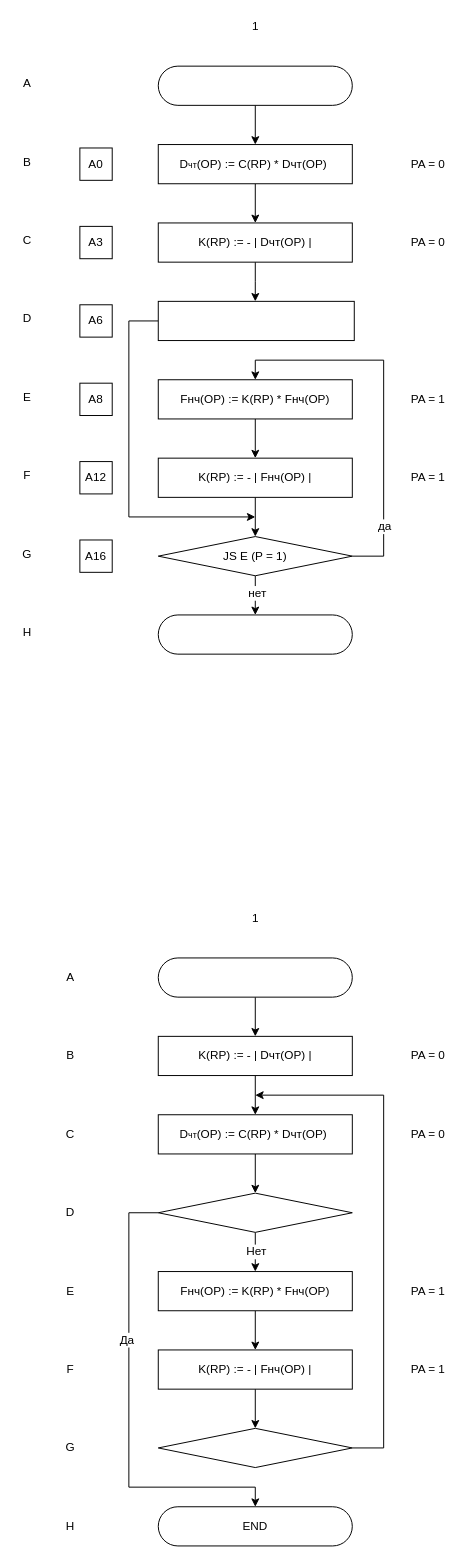
Some shapes in this 468 by 1563 pixel diagram are drawn without their labels. Each missing label, with the centre of its shape:
JMP C: pixel 254 1447
JMP G: pixel 255 320
JS END (P = 1): pixel 254 1212
START: pixel 254 977
Конец: pixel 254 634
Начало: pixel 254 85
